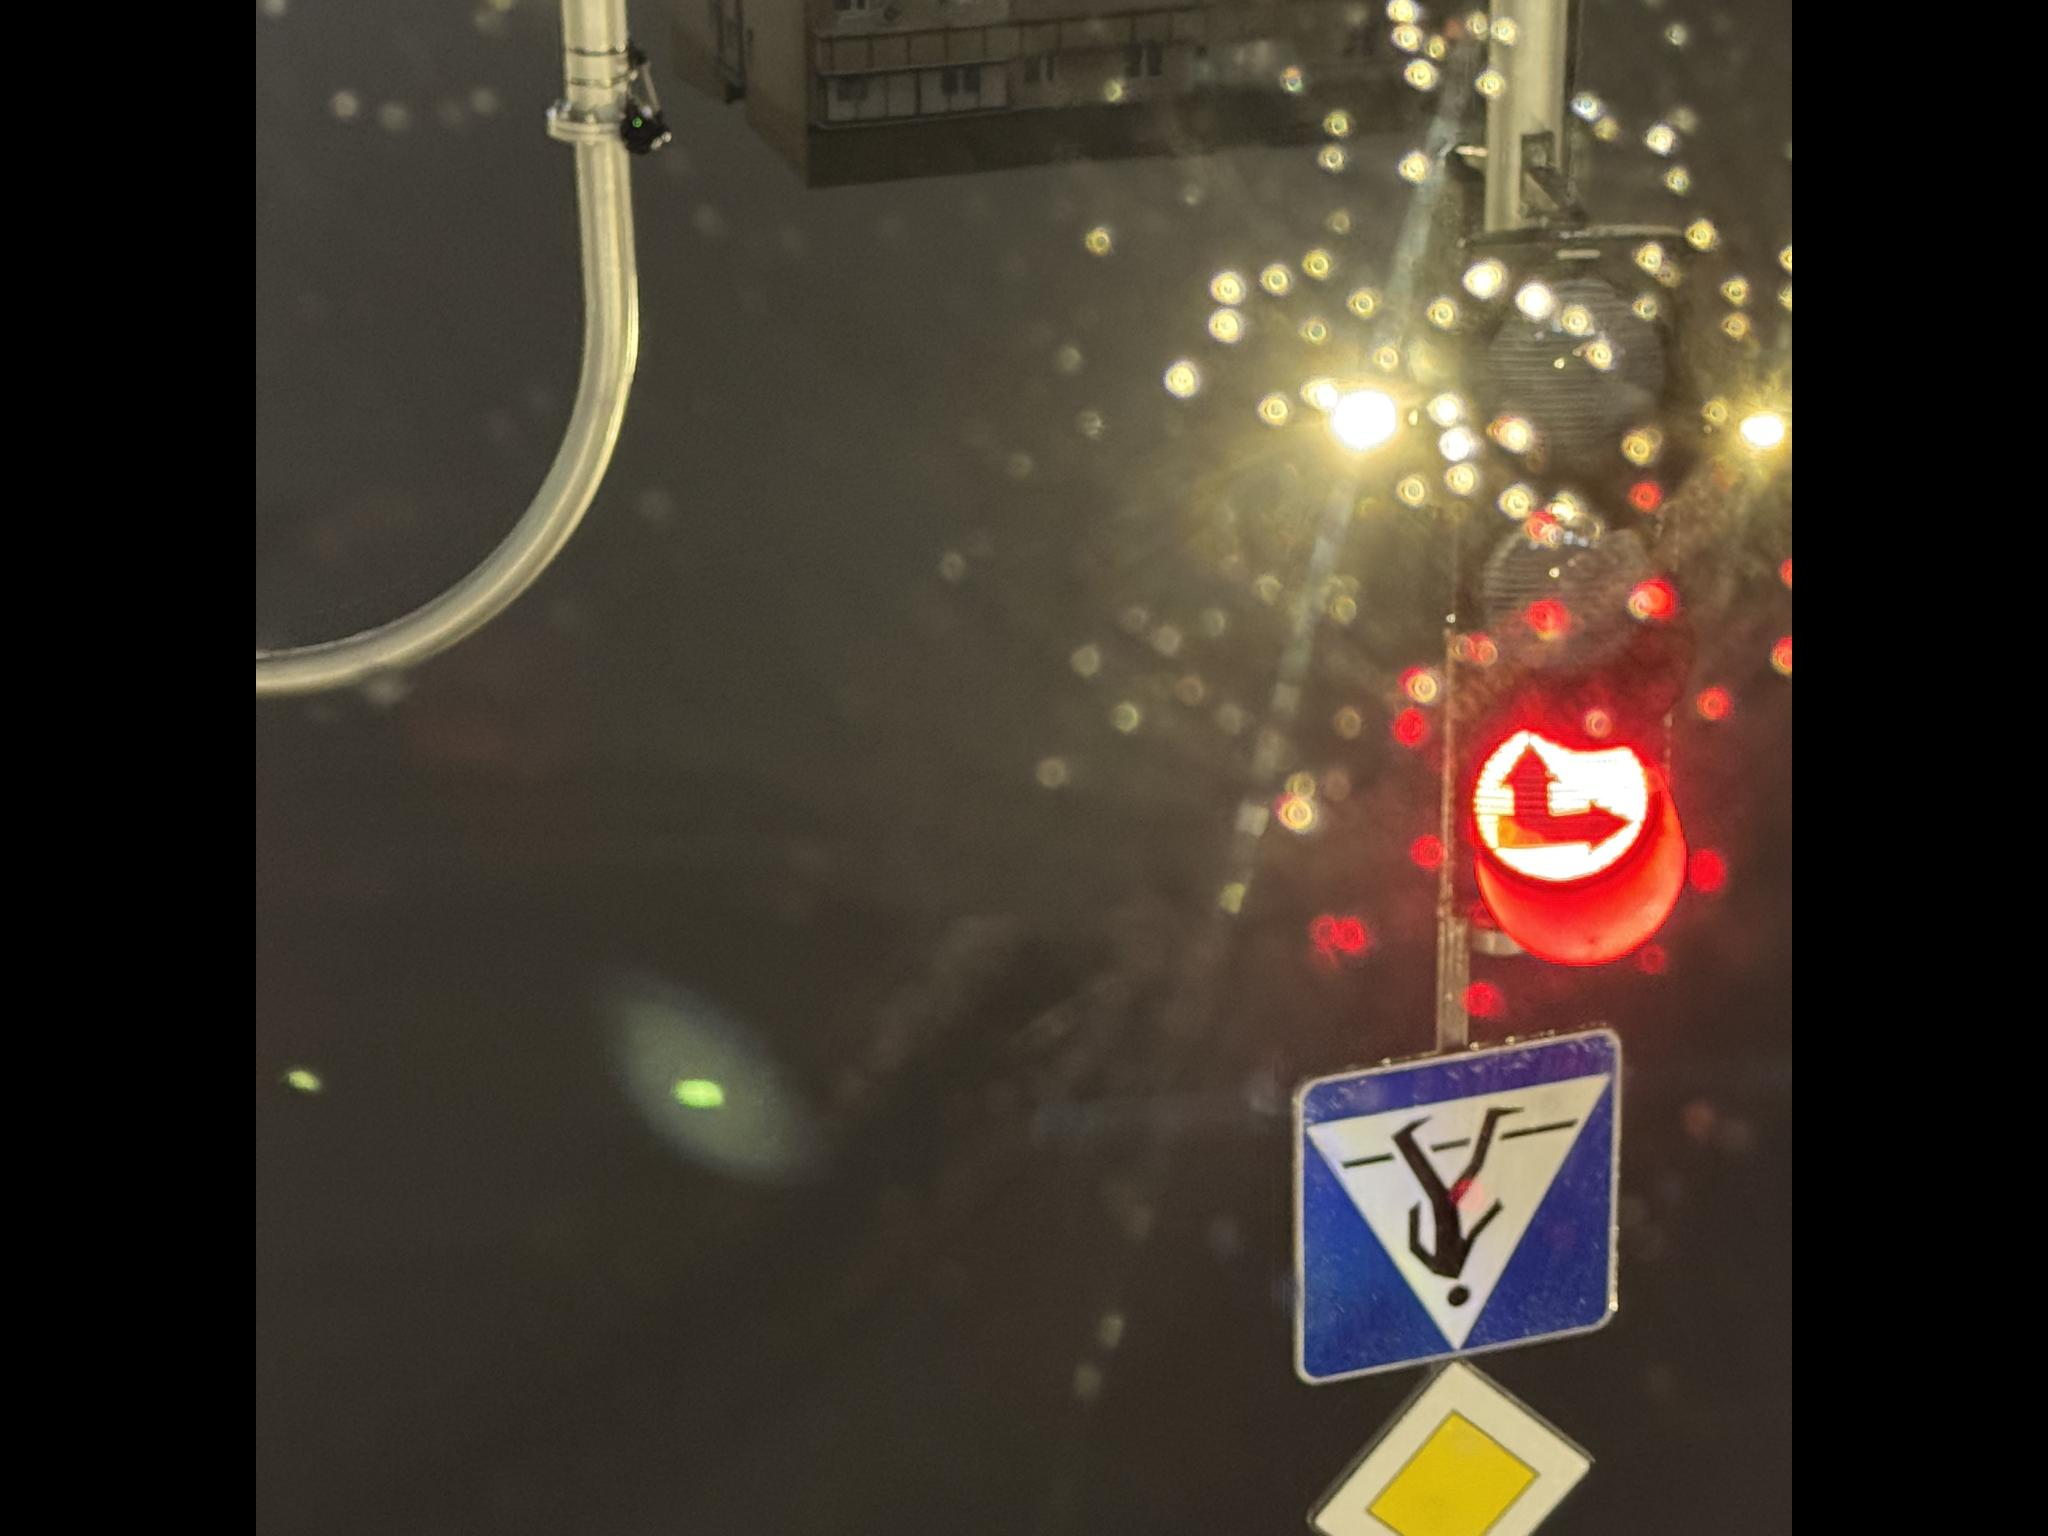information: (658, 1286, 1027, 1536), (424, 1305, 698, 1536)
